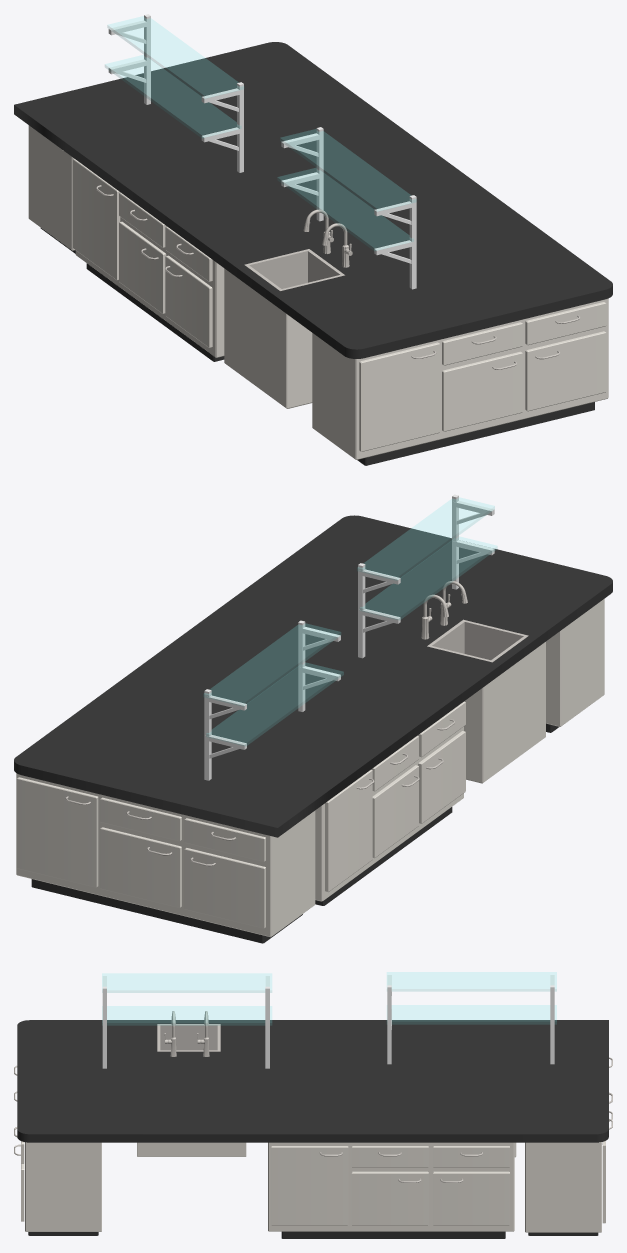
File: Table_left_middle.glb
The picture shows the model from 3 angles, top to bottom: view 1: azimuth 30°, elevation 25°; view 2: azimuth 150°, elevation 25°; view 3: azimuth 270°, elevation 25°; orthographic projection. The views are drawn at different scales.
Parts seen in each view (by area): view 1: Table_left_middle, Cube (×2), Cube (1) (×2), Rack_leg (×2); view 2: Table_left_middle, Cube (×2), Cube (1) (×2), Rack_leg (×3); view 3: Table_left_middle, Cube (×2), Cube (1) (×2), Rack_leg (×4).
Boxes of the visible parts, bbox=[...] form: Table_left_middle: bbox=[14, 42, 612, 465]; Cube (×2): bbox=[107, 16, 416, 211]; Cube (1) (×2): bbox=[105, 55, 413, 250]; Rack_leg (×2): bbox=[316, 127, 416, 289]; Table_left_middle: bbox=[14, 515, 612, 943]; Cube (×2): bbox=[203, 497, 494, 706]; Cube (1) (×2): bbox=[206, 536, 497, 745]; Rack_leg (×3): bbox=[204, 563, 365, 780]; Table_left_middle: bbox=[14, 1011, 612, 1238]; Cube (×2): bbox=[102, 972, 556, 992]; Cube (1) (×2): bbox=[102, 1005, 556, 1025]; Rack_leg (×4): bbox=[102, 985, 554, 1068].
Size of the model in its own units: 2.78 by 2.08 by 5.98.
